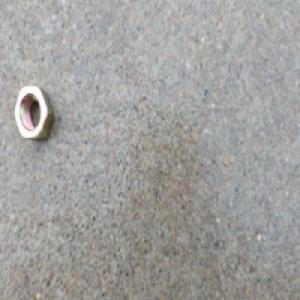Nut: (12, 83, 54, 143)
